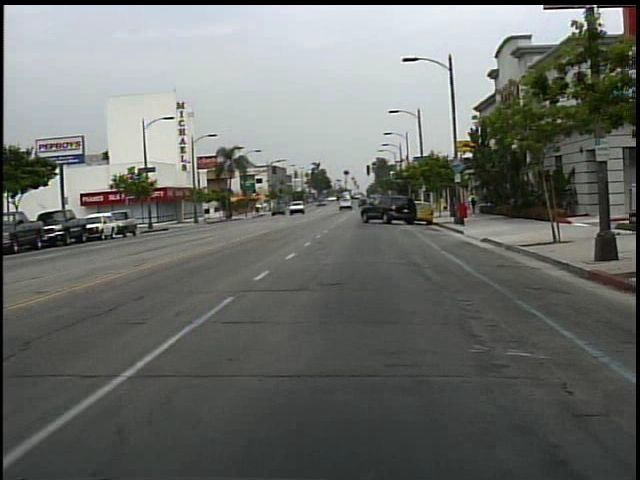person: (468, 189, 482, 219)
